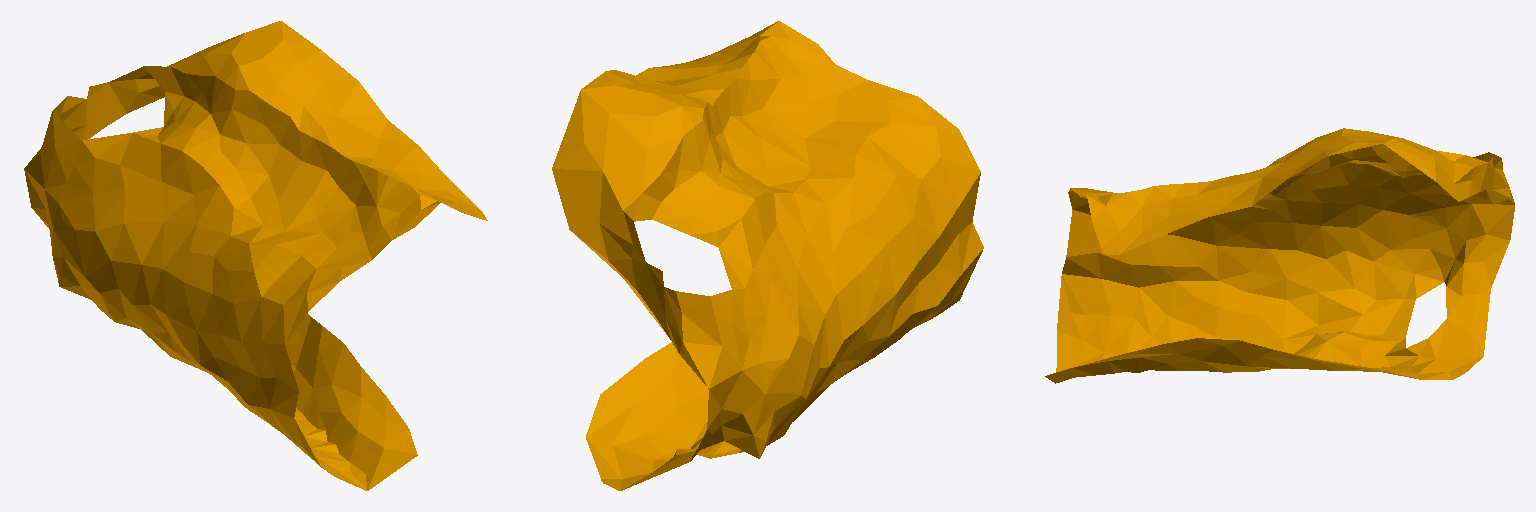
URDF robot description (init):
<?xml version='1.0' encoding='utf-8'?>
<robot name="init">
<link name="link_0"><inertial><mass value="1.0" /><origin rpy="0 0 0" xyz="0.000000 0.000000 0.000000" /><inertia ixx="1.0" ixy="0.0" ixz="0.0" iyy="1.0" iyz="0.0" izz="1.0" /></inertial><visual><origin rpy="0 0 0" xyz="0.000000 0.000000 0.000000" /><geometry><mesh filename="./clothHuman/cloth/2710.obj" /></geometry></visual><collision><origin rpy="0 0 0" xyz="0.000000 0.000000 0.000000" /><geometry><mesh filename="./clothHuman/cloth/2710.obj" /></geometry></collision></link></robot>

--- What the picture shows (computed from the rendered views, not written in the file) ---
3 views of the same robot in one strip: view 1: azimuth 30°, elevation 25°; view 2: azimuth 150°, elevation 25°; view 3: azimuth 270°, elevation 25° (orthographic).
Model init with 1 links and 0 joints (none), rooted at link_0, posed every joint at zero.
Visible links, largest first — view 1: link_0; view 2: link_0; view 3: link_0.
Link boxes in pixels (x1,y1,x2,y2): link_0: (24, 21, 487, 490); link_0: (552, 21, 983, 490); link_0: (1045, 128, 1514, 383).
Bounding box of the posed robot: 2.11 × 3.89 × 2.57 m (x, y, z).
1 mesh visuals loaded from 1 distinct referenced files (1 OBJ).